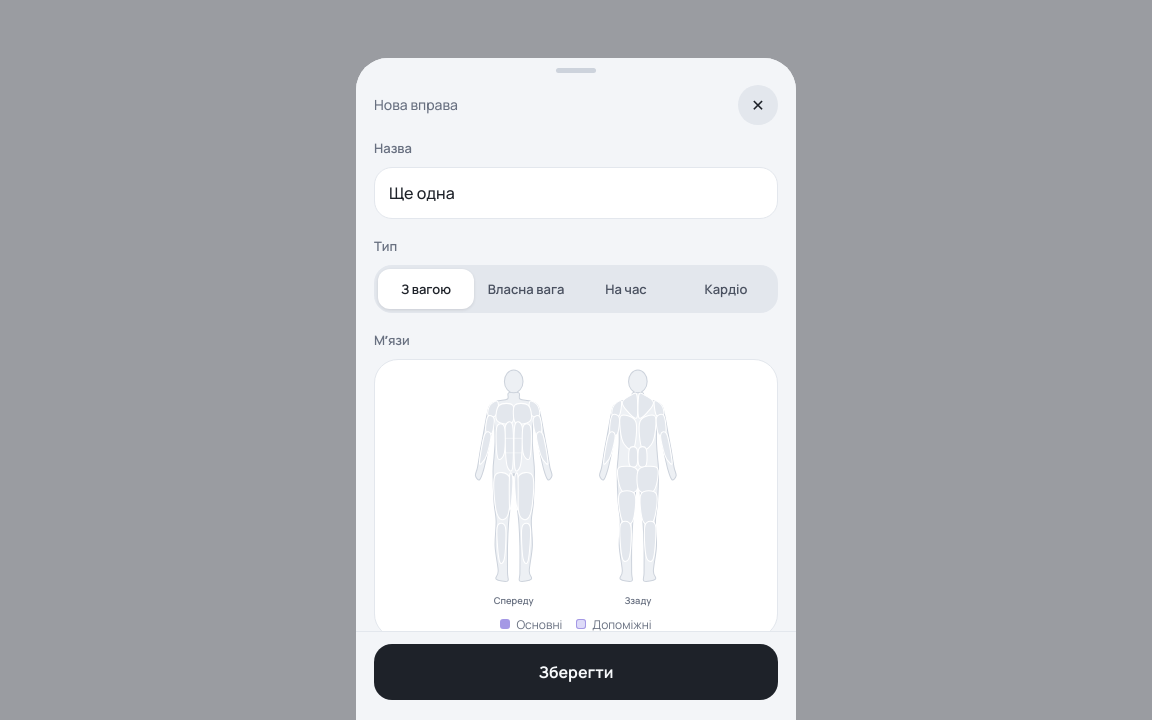
Test: ExerciseEditorSheet › a refused save (the 301st exercise) keeps the form open with a message
Click the radio button labelled "Кардіо".
click(726, 289)  # box [678, 269, 774, 309]
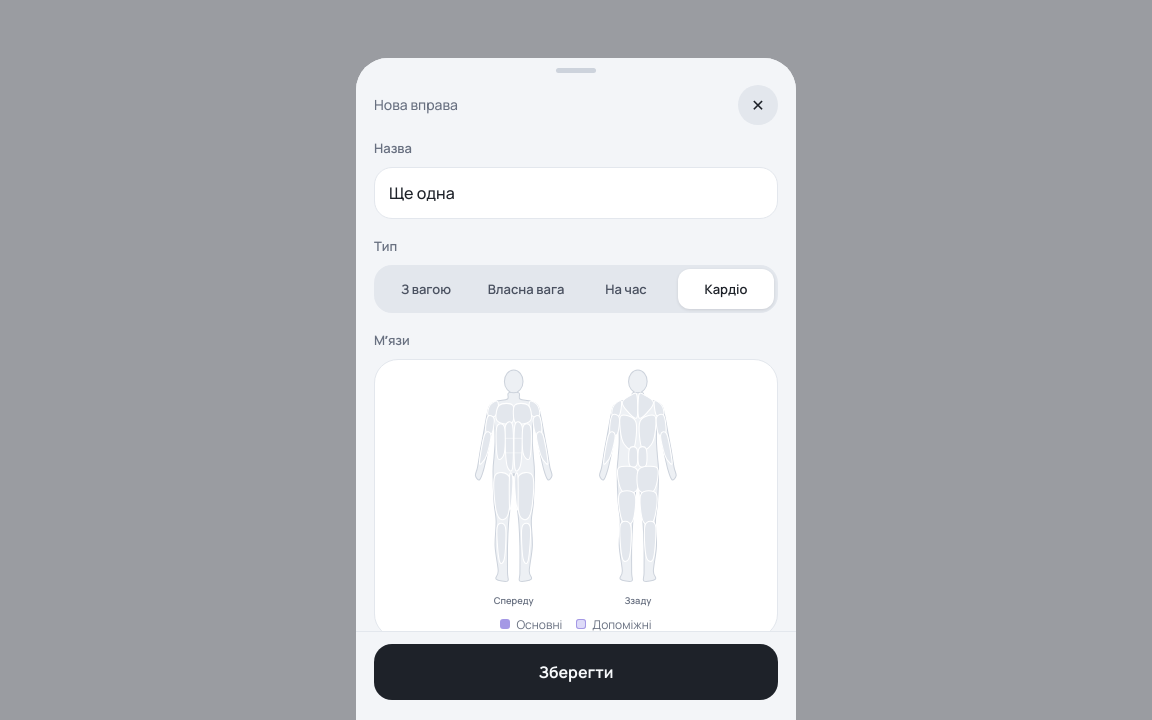
Click the button "Зберегти".
click(576, 672)  # box [374, 644, 778, 700]
(page scrolled)
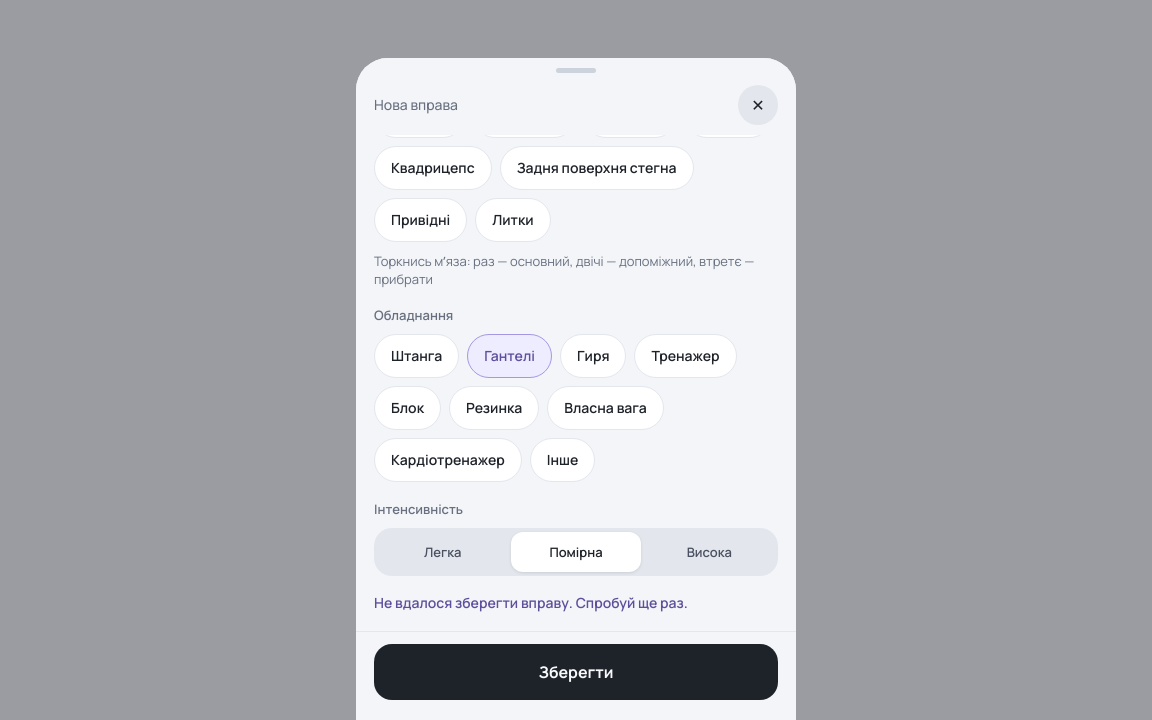
Expected: the message shows "Не вдалося зберегти", [374, 593, 688, 612]
